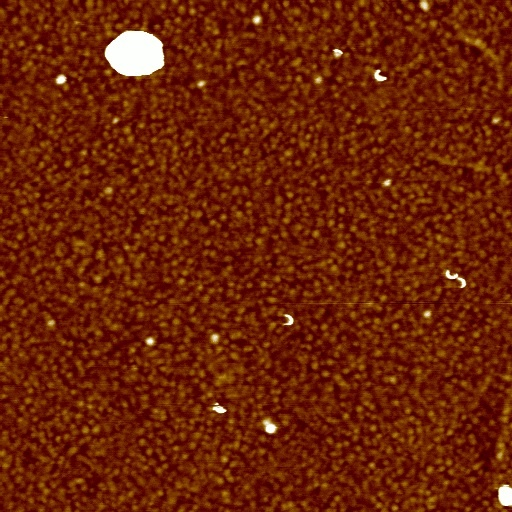-1: (103, 27, 167, 79), (498, 481, 511, 509), (263, 419, 279, 439), (211, 402, 229, 417), (54, 71, 68, 84), (332, 46, 345, 58)
2/4: (374, 66, 391, 84), (455, 275, 472, 291), (441, 267, 460, 281), (282, 312, 296, 327)
